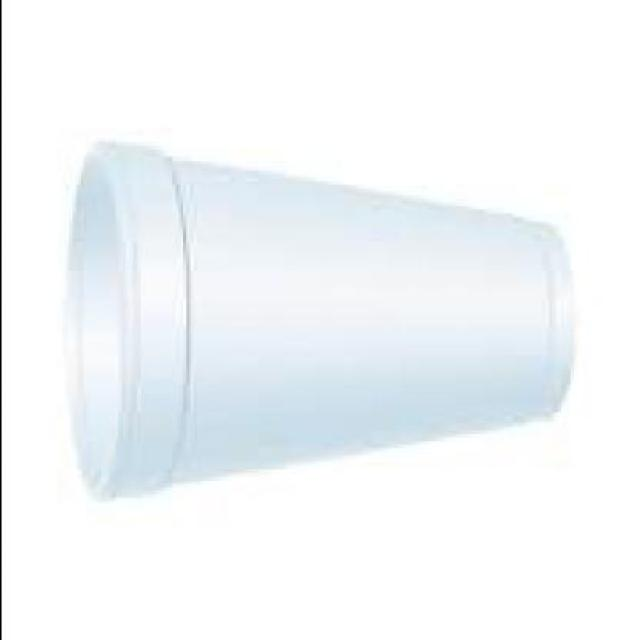PAPER: (64, 145, 565, 506)
